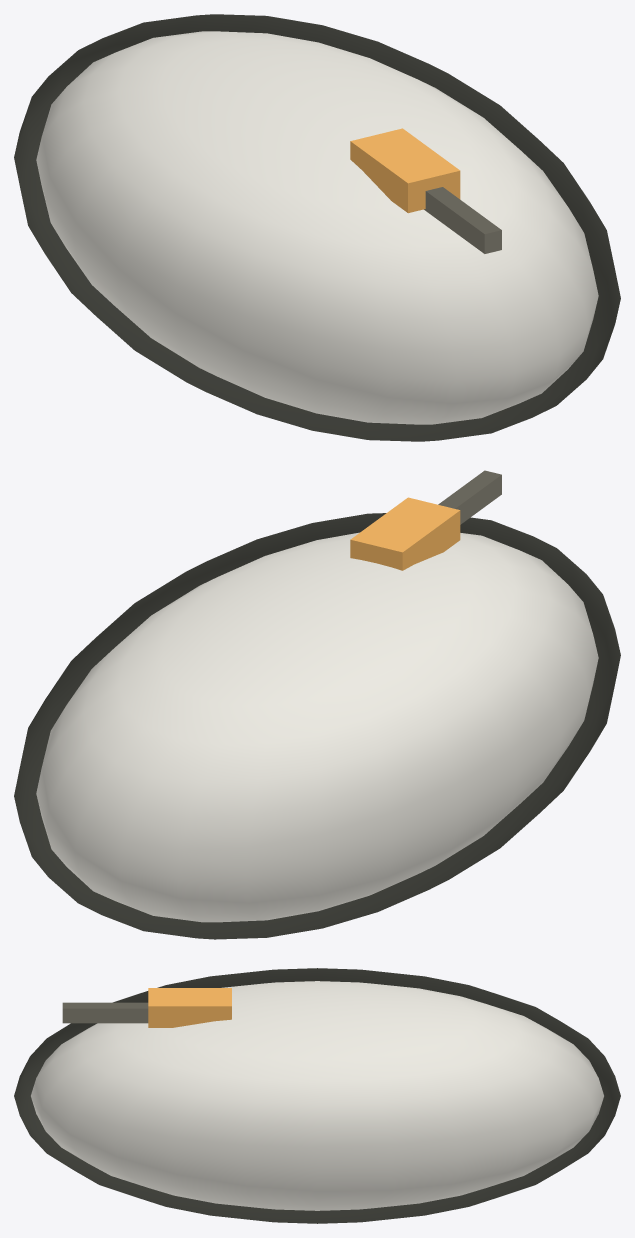
Rendered from mouse.glb.
3 renders of one model, top to bottom at view 1: azimuth 30°, elevation 25°; view 2: azimuth 150°, elevation 25°; view 3: azimuth 270°, elevation 25°, orthographic. The views are drawn at different scales.
Visible parts, largest first — view 1: Mouse part 1, Mouse part 2, Mouse part 4, Mouse part 3; view 2: Mouse part 1, Mouse part 2, Mouse part 4, Mouse part 3; view 3: Mouse part 1, Mouse part 2, Mouse part 4, Mouse part 3.
Part boxes in pixels (x1,y1,x2,y2): Mouse part 1: (36,31,598,424); Mouse part 2: (14,14,620,441); Mouse part 4: (350,128,460,213); Mouse part 3: (424,187,501,253); Mouse part 1: (36,532,598,922); Mouse part 2: (14,513,620,939); Mouse part 4: (350,497,460,570); Mouse part 3: (438,470,501,524); Mouse part 1: (31,981,603,1210); Mouse part 2: (14,968,620,1223); Mouse part 4: (148,988,231,1027); Mouse part 3: (62,1002,148,1023).
Size of the model in its own units: 0.462 by 0.282 by 0.762.
